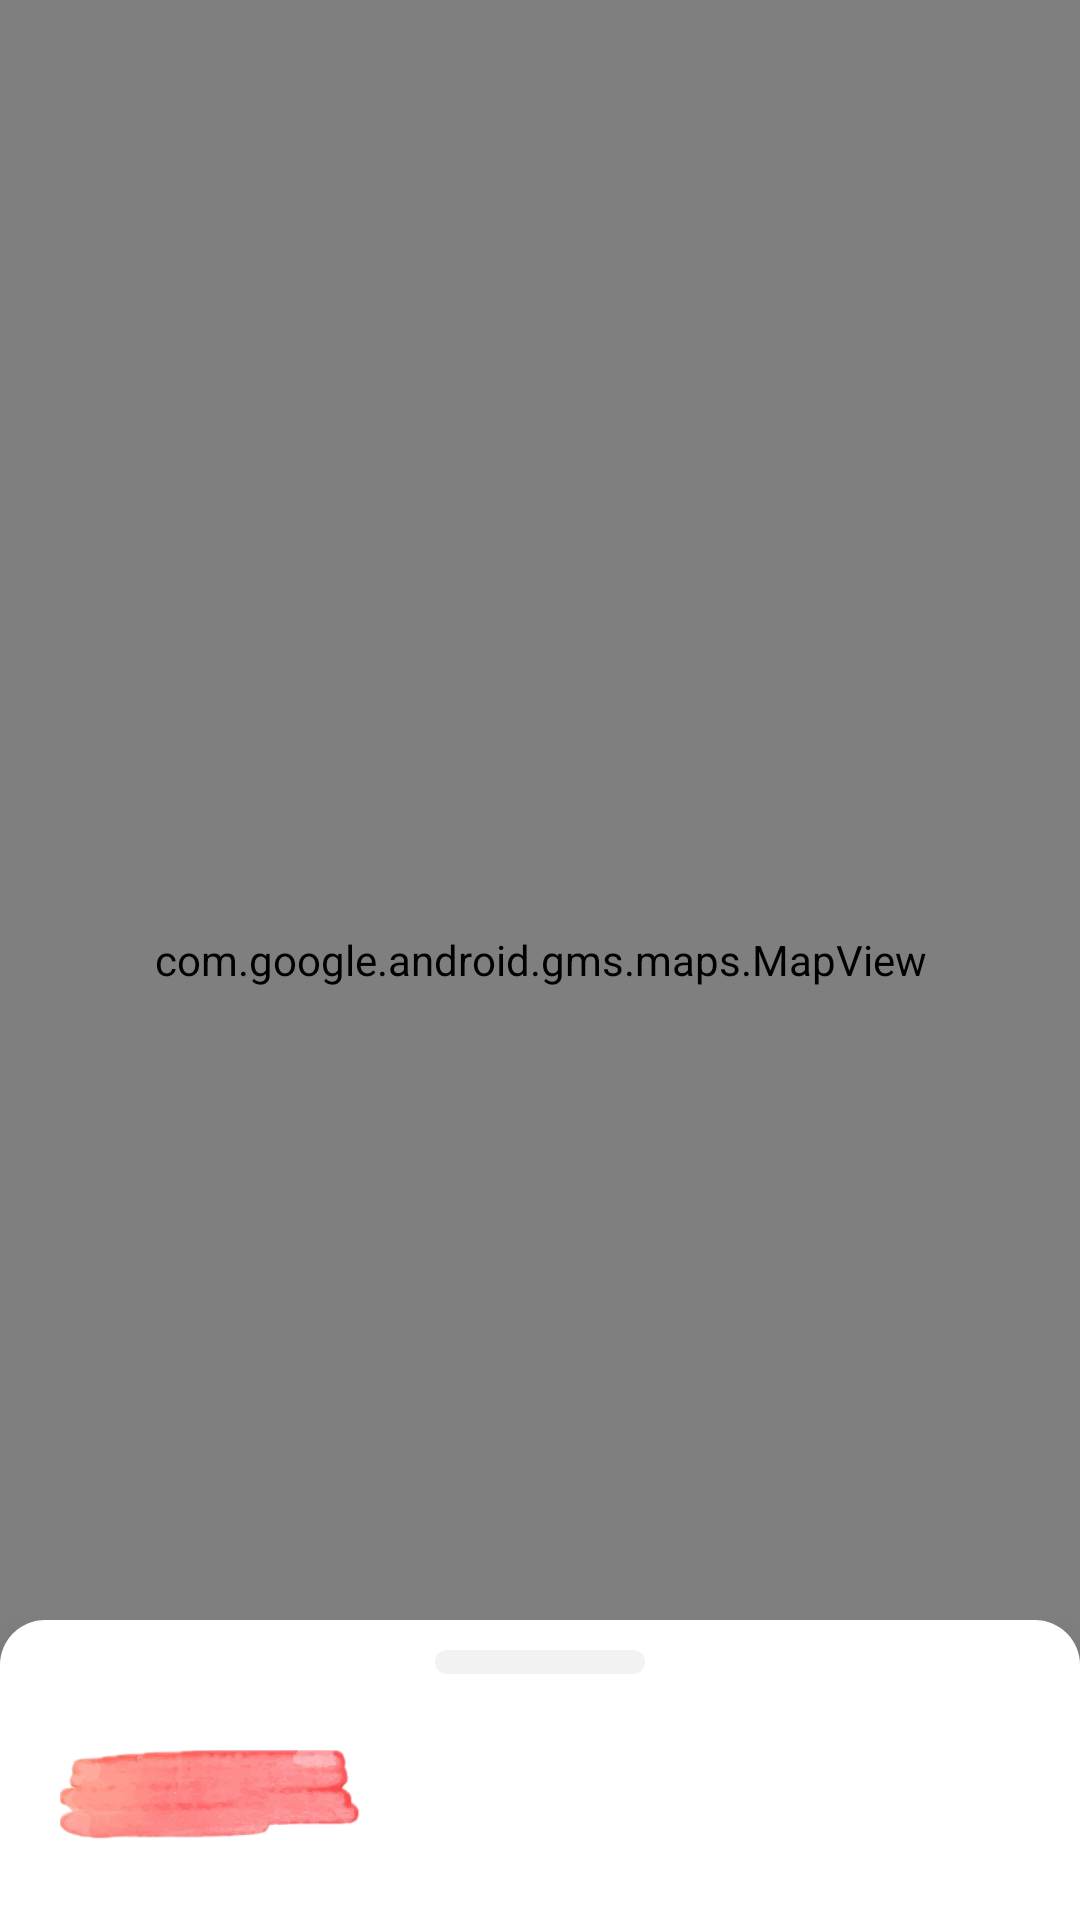

Locate icon controls on the screen. Image size 1080w x 1920h, boxes as (left=x1, top=y1, right=x2, bottom=y2).
brush: (left=60, top=1750, right=359, bottom=1839)
